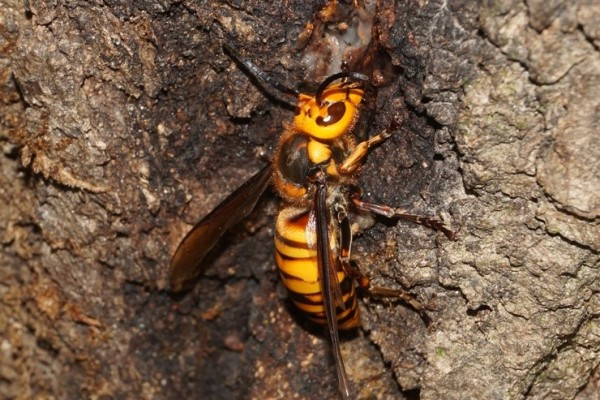asian_giant_hornet: (171, 39, 449, 333)
